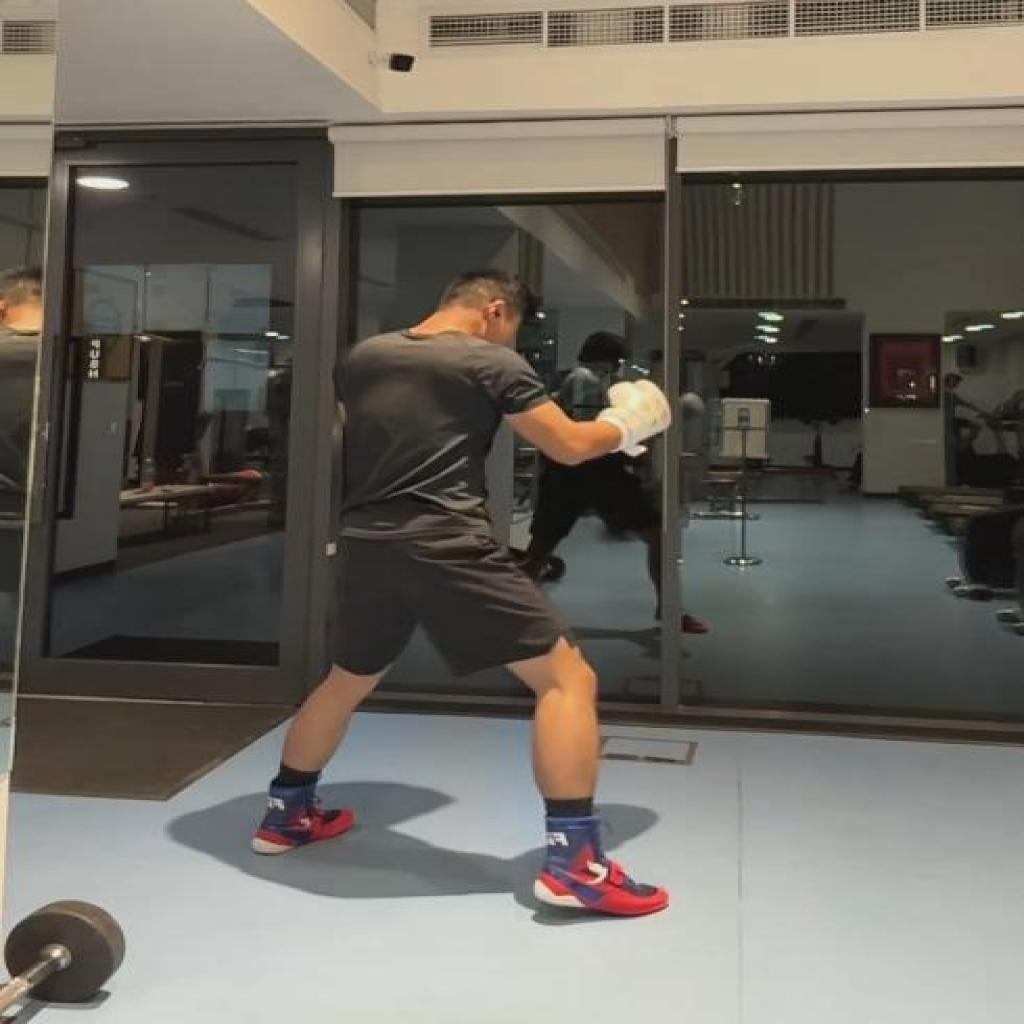hook: (255, 267, 679, 922)
